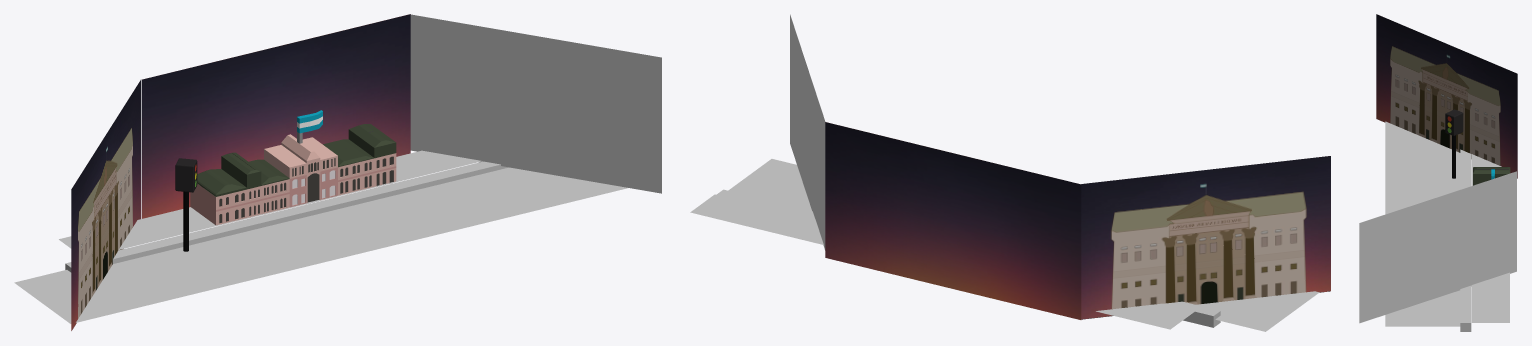
File: casa rosada prototipo (1) (2).fbx
3 views of the same model, side by side, from view 1: azimuth 30°, elevation 25°; view 2: azimuth 150°, elevation 25°; view 3: azimuth 270°, elevation 25° (orthographic). The views are drawn at different scales.
Parts seen in each view (by area): view 1: ministerio de economia, cielo, calle, Cube, banco de la nacion argentina, vereda, ladrillos, semaforo, Cube.001; view 2: cielo, banco de la nacion argentina, calle, ministerio de economia, ladrillos, vereda; view 3: ministerio de economia, banco de la nacion argentina, calle, ladrillos, vereda, semaforo, Cube.
Boxes of the visible parts, box(x1,y1,x2,y2) form: ministerio de economia: box(410, 14, 661, 193); cielo: box(142, 14, 410, 218); calle: box(14, 167, 627, 323); Cube: box(190, 124, 396, 225); banco de la nacion argentina: box(71, 79, 141, 330); vereda: box(65, 161, 508, 272); ladrillos: box(59, 150, 482, 249); semaforo: box(175, 158, 197, 251); Cube.001: box(297, 110, 322, 143); cielo: box(825, 122, 1081, 319); banco de la nacion argentina: box(1081, 156, 1330, 319); calle: box(728, 159, 1319, 331); ministerio de economia: box(790, 14, 825, 250); ladrillos: box(690, 194, 1194, 329); vereda: box(716, 189, 1220, 327); ministerio de economia: box(1359, 171, 1516, 323); banco de la nacion argentina: box(1376, 14, 1517, 178); calle: box(1385, 121, 1460, 326); ladrillos: box(1471, 154, 1509, 322); vereda: box(1460, 149, 1471, 331); semaforo: box(1445, 109, 1463, 178); Cube: box(1473, 167, 1510, 185).
Size of the model in its own units: 2604 by 632 by 832.
